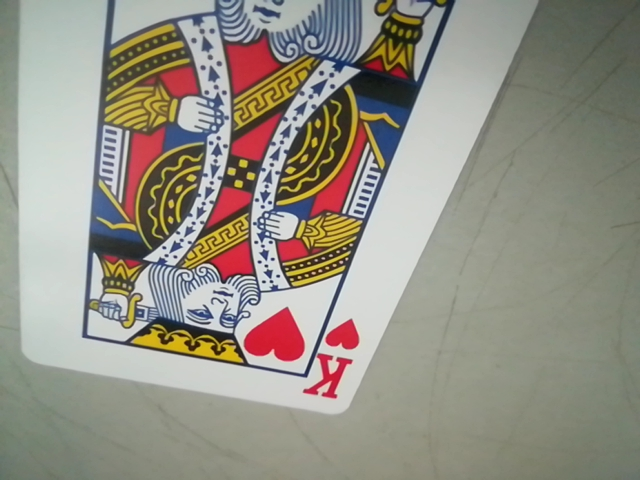hx k: (297, 320, 369, 408)
